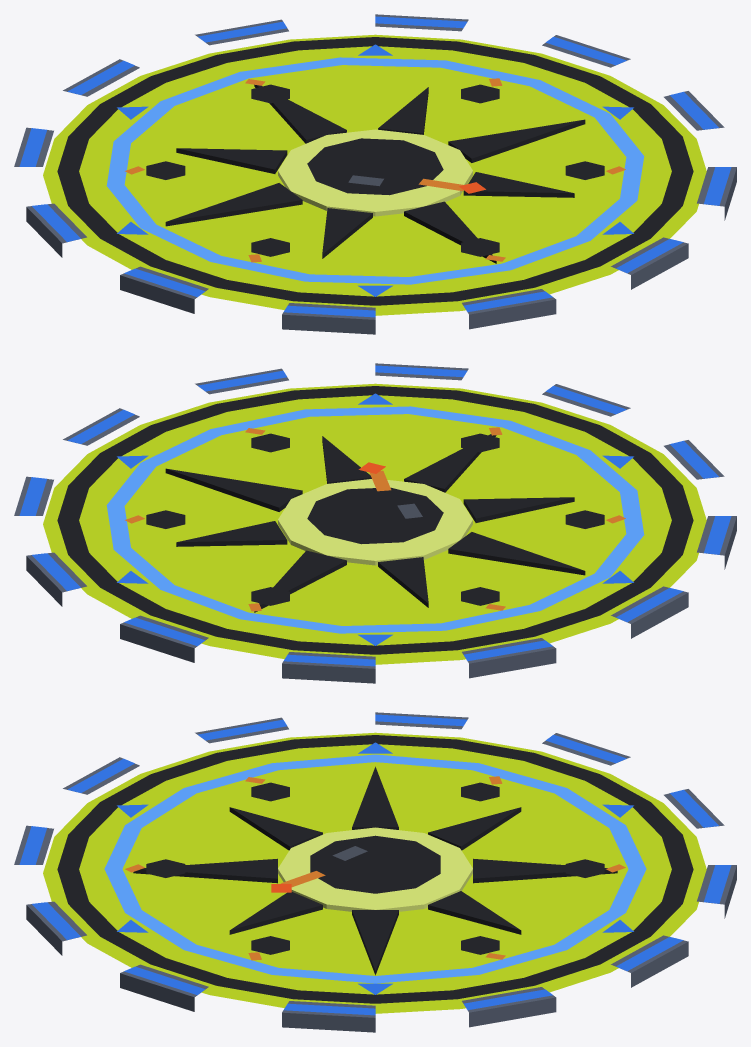
The model's file is daredevil_super_rare_area.glb.
The picture shows the model from 3 angles, top to bottom: view 1: azimuth 30°, elevation 25°; view 2: azimuth 150°, elevation 25°; view 3: azimuth 270°, elevation 25°; orthographic projection.
Visible parts, largest first — view 1: daredevil_super_rare_area; view 2: daredevil_super_rare_area; view 3: daredevil_super_rare_area.
Part boxes in pixels (x1,y1,x2,y2): daredevil_super_rare_area: (14,14,736,334); daredevil_super_rare_area: (14,363,736,683); daredevil_super_rare_area: (14,712,736,1032).
Bounding box in the file's own units: 2 × 0.049 × 2.
2 materials, 2 textured.
